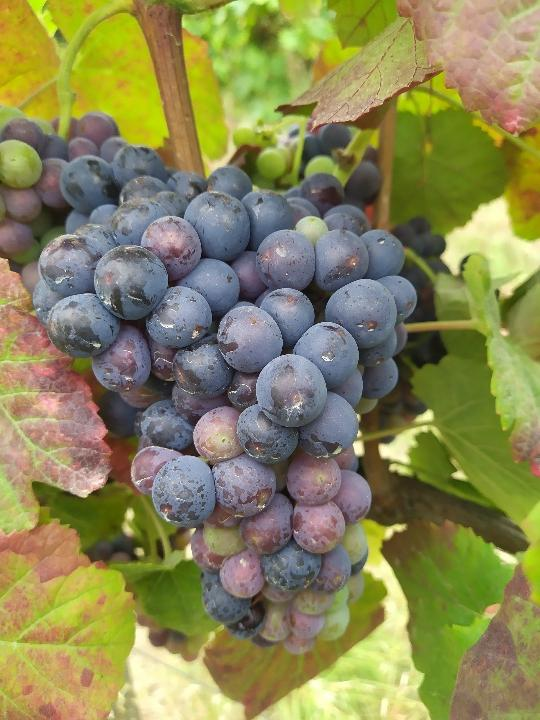grape: (29, 168, 419, 656)
